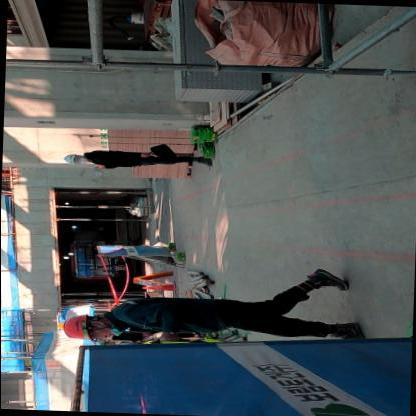Helmet: (61, 310, 98, 345)
safety-shoe: (306, 262, 358, 295), (326, 317, 373, 344)
